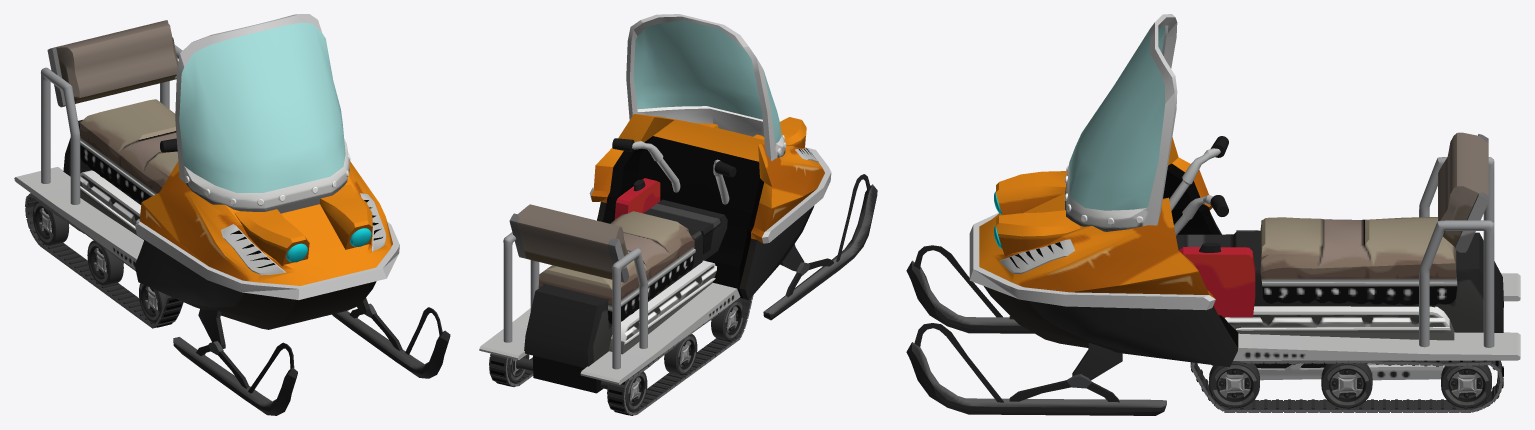
File: HCR2 Snowmobile.fbx
3 renders of one model, left to right at view 1: azimuth 30°, elevation 25°; view 2: azimuth 150°, elevation 25°; view 3: azimuth 270°, elevation 25°, orthographic. The views are drawn at different scales.
Visible parts, largest first — view 1: HCR2_SM_Hood, HCR2_SM_Window, HCR2_SM_Seat, HCR2_SM_Skis, HCR2_SM_Chassis, HCR2_SM_Window_Frame, HCR2_SM_Paths, HCR2_SM_Handles, HCR2_SM_Wheels_Mid, HCR2_SM_Wheels_Rear, HCR2_SM_Wheels_Front, HCR2_SM_Lights_Cover; view 2: HCR2_SM_Hood, HCR2_SM_Chassis, HCR2_SM_Seat, HCR2_SM_Window, HCR2_SM_Window_Frame, HCR2_SM_Handles, HCR2_SM_Skis, HCR2_SM_Paths, HCR2_SM_Support, HCR2_SM_Steer, HCR2_SM_Wheels_Rear, HCR2_SM_Tank (+2 smaller); view 3: HCR2_SM_Hood, HCR2_SM_Seat, HCR2_SM_Chassis, HCR2_SM_Window, HCR2_SM_Skis, HCR2_SM_Window_Frame, HCR2_SM_Paths, HCR2_SM_Handles, HCR2_SM_Tank, HCR2_SM_Support, HCR2_SM_Wheels_Mid, HCR2_SM_Wheels_Front (+2 smaller).
Boxes of the visible parts, x1,y1,x2,y2 form: HCR2_SM_Hood: (134, 161, 399, 329); HCR2_SM_Window: (179, 22, 345, 192); HCR2_SM_Seat: (47, 20, 178, 203); HCR2_SM_Skis: (173, 298, 450, 415); HCR2_SM_Chassis: (14, 119, 143, 269); HCR2_SM_Window_Frame: (175, 14, 350, 213); HCR2_SM_Paths: (25, 193, 183, 328); HCR2_SM_Handles: (41, 45, 182, 204); HCR2_SM_Wheels_Mid: (87, 240, 123, 285); HCR2_SM_Wheels_Rear: (32, 201, 69, 245); HCR2_SM_Wheels_Front: (139, 283, 166, 323); HCR2_SM_Lights_Cover: (286, 228, 371, 262); HCR2_SM_Hood: (589, 114, 831, 300); HCR2_SM_Chassis: (479, 199, 740, 384); HCR2_SM_Seat: (509, 204, 695, 323); HCR2_SM_Window: (633, 20, 781, 143); HCR2_SM_Window_Frame: (626, 14, 786, 161); HCR2_SM_Handles: (503, 232, 647, 369); HCR2_SM_Skis: (763, 174, 877, 320); HCR2_SM_Paths: (489, 295, 753, 415); HCR2_SM_Support: (533, 355, 603, 393); HCR2_SM_Steer: (612, 138, 736, 204); HCR2_SM_Wheels_Rear: (507, 354, 647, 411); HCR2_SM_Tank: (614, 178, 660, 219); HCR2_SM_Hood: (969, 137, 1238, 367); HCR2_SM_Seat: (1260, 132, 1488, 305); HCR2_SM_Chassis: (1176, 230, 1520, 360); HCR2_SM_Window: (1069, 25, 1165, 210); HCR2_SM_Skis: (906, 245, 1166, 415); HCR2_SM_Window_Frame: (1064, 14, 1177, 231); HCR2_SM_Paths: (1190, 301, 1503, 412); HCR2_SM_Handles: (1419, 157, 1494, 347); HCR2_SM_Tank: (1178, 242, 1255, 317); HCR2_SM_Support: (1211, 362, 1444, 380); HCR2_SM_Wheels_Mid: (1321, 362, 1372, 408); HCR2_SM_Wheels_Front: (1209, 361, 1259, 408).
Bounding box in the file's own units: 139 × 212 × 347.
